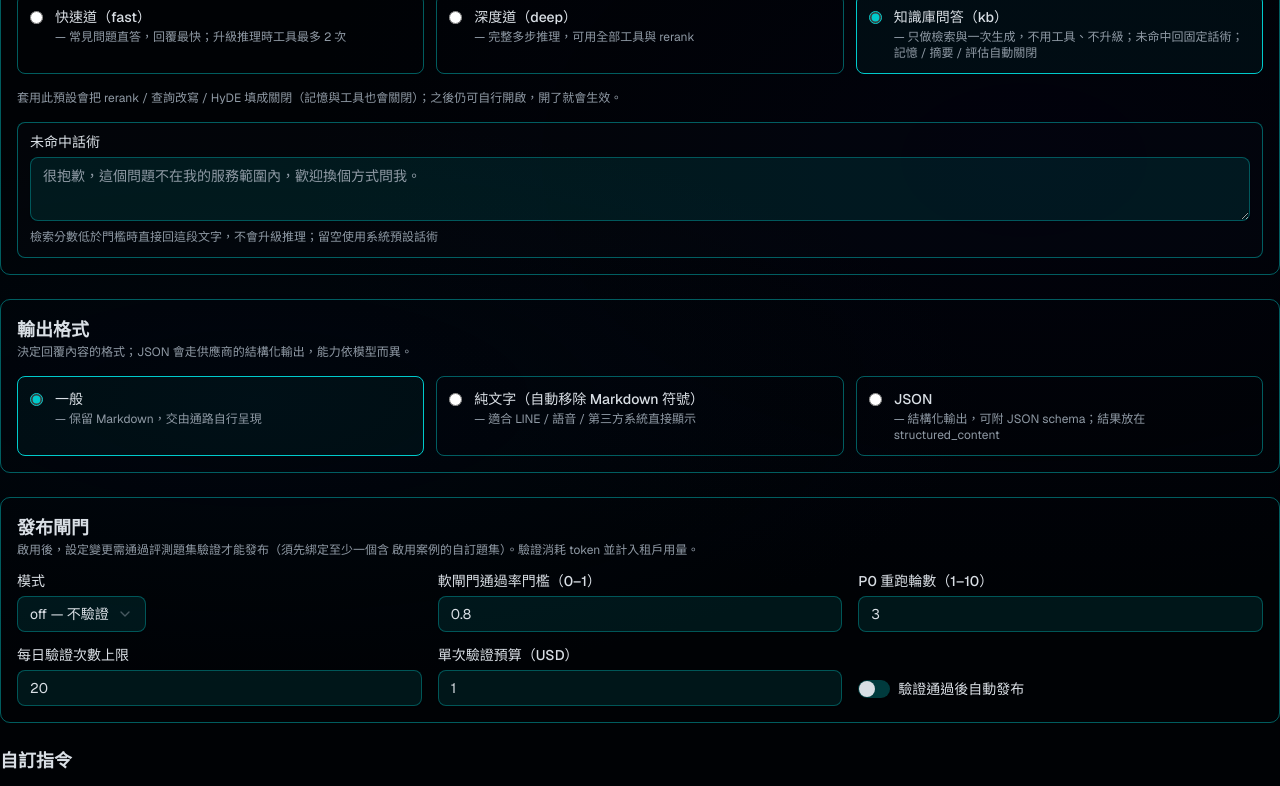
Test: BotDetailForm › kb mode & output format (Issue #70) › should block submit when output_format is json and miss_reply is not valid JSON
Click the radio button labelled "JSON — 結構化輸出，可附 JSON schema；結果放在 structured_content" at (875, 400), box [869,393,882,406]
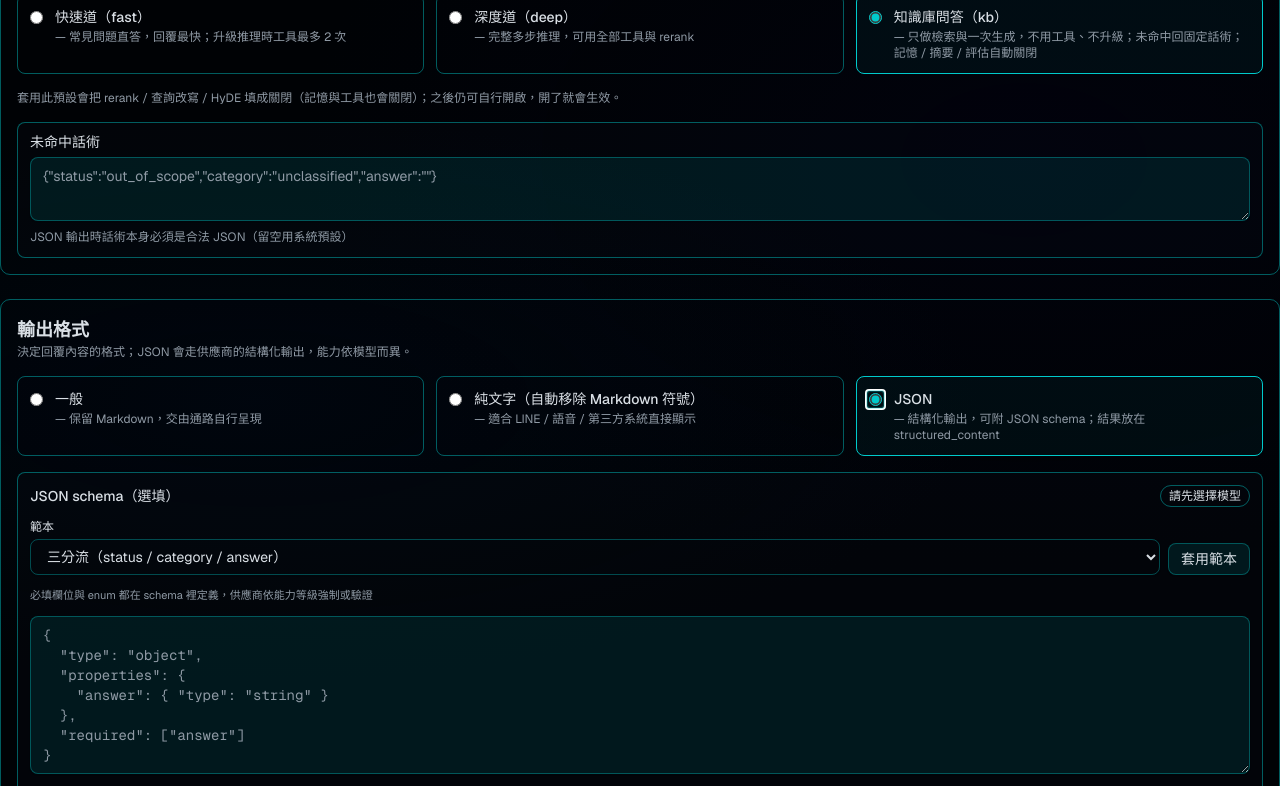
Click the text box labelled "未命中話術" at (640, 189), box [30,157,1250,221]
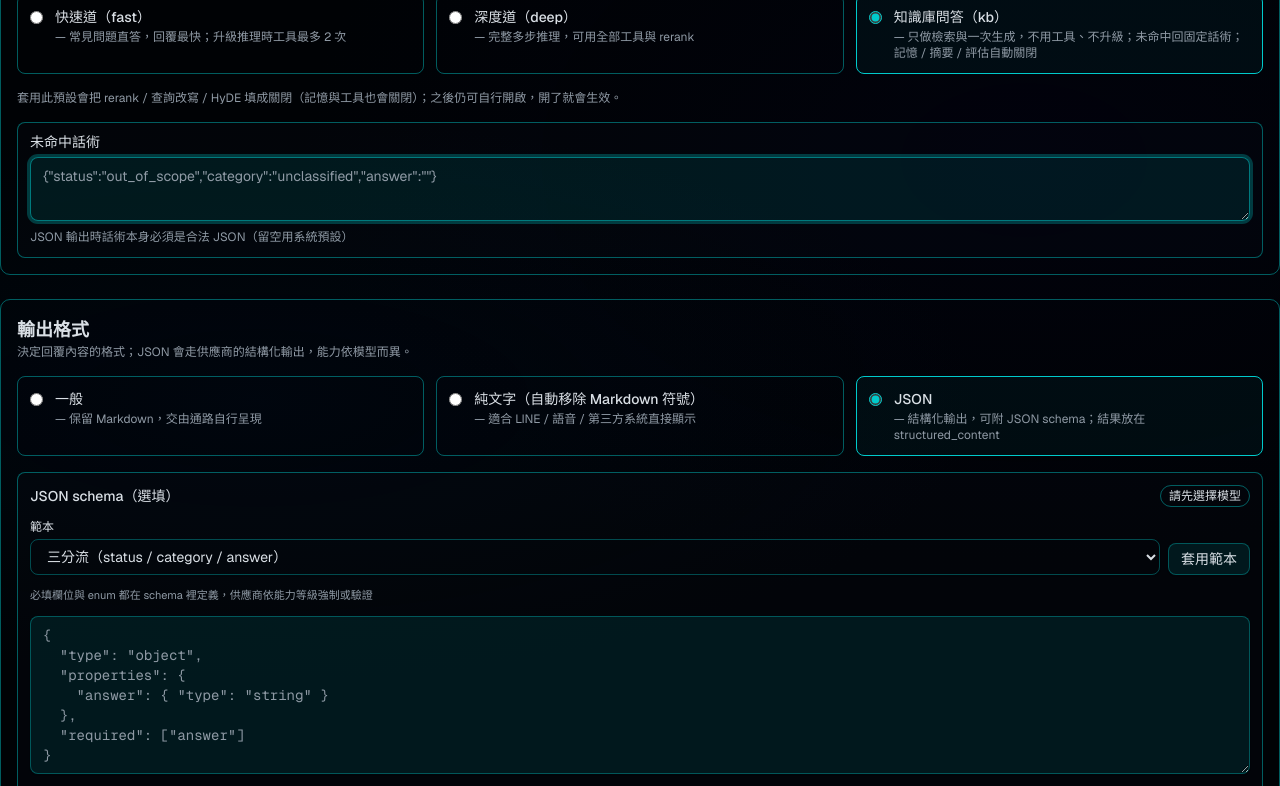
Type keys "不是 JSON"
(page scrolled)
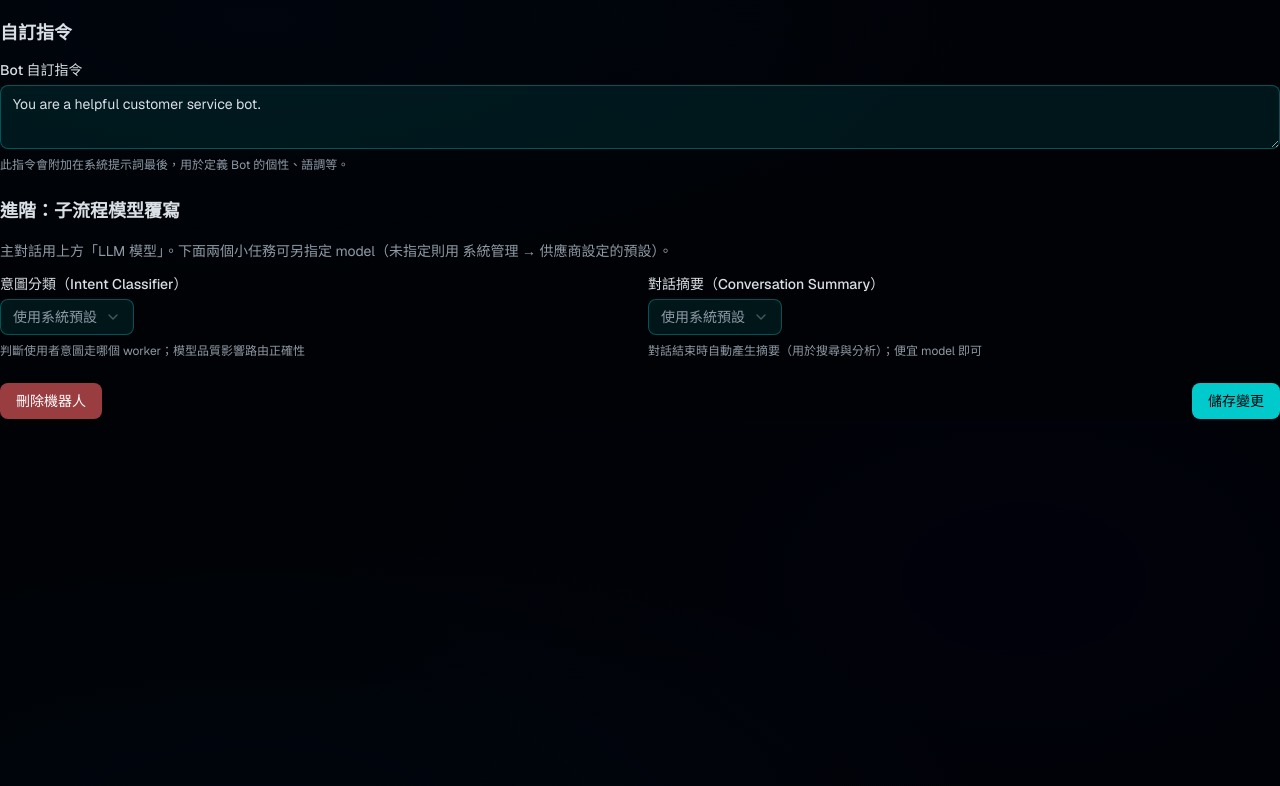
Click the button "儲存變更" at (1236, 400), box [1192,382,1279,418]
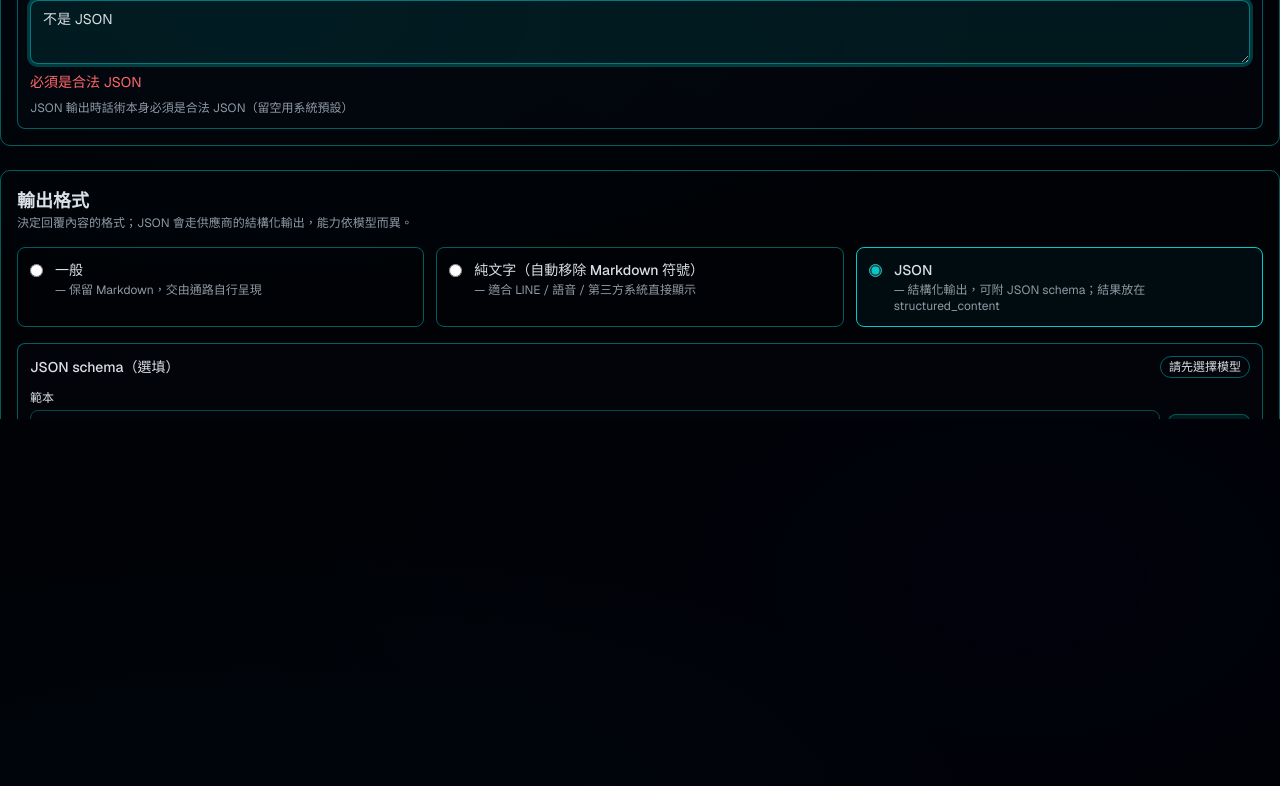
Expected: the text "必須是合法 JSON" is shown, [30,73,142,91]
